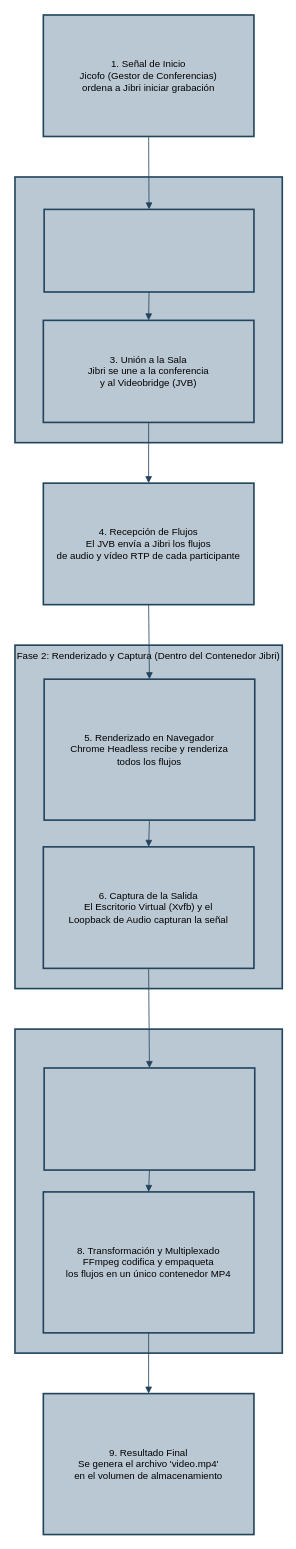
Image size: 296x1549. Some labels were removed from this diagram. The shapes that lost their labels are listed below. From the top down, each one's box as (x1, y1, x2, y2) in pixels, then its label:
(43, 208, 254, 292): 2. Autenticación XMPP Jibri se conecta y autentica con el servidor Prosody
(14, 176, 283, 443): Fase 1: Conexión y Autenticación
(43, 1067, 255, 1170): 7. Proceso de FFmpeg Los flujos en bruto capturados se envían a FFmpeg
(14, 1028, 283, 1354): Fase 3: Codificación y Empaquetado
